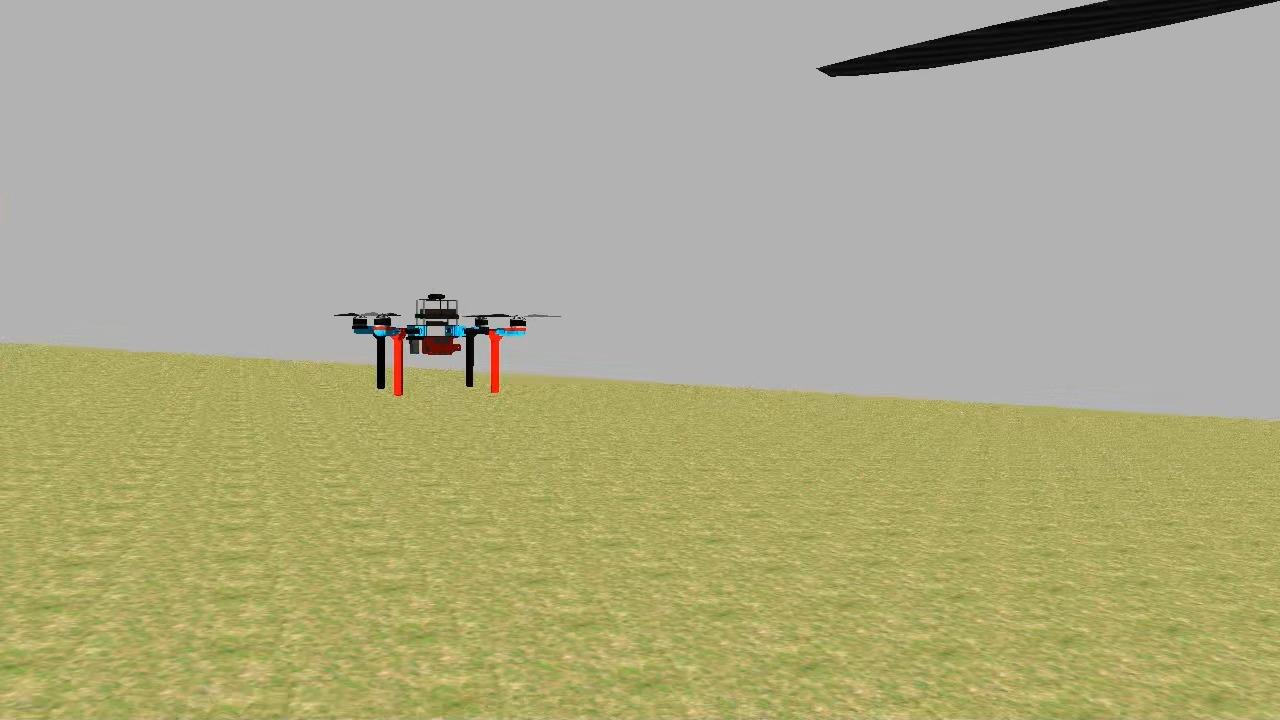UAV: (352, 286, 534, 402)
